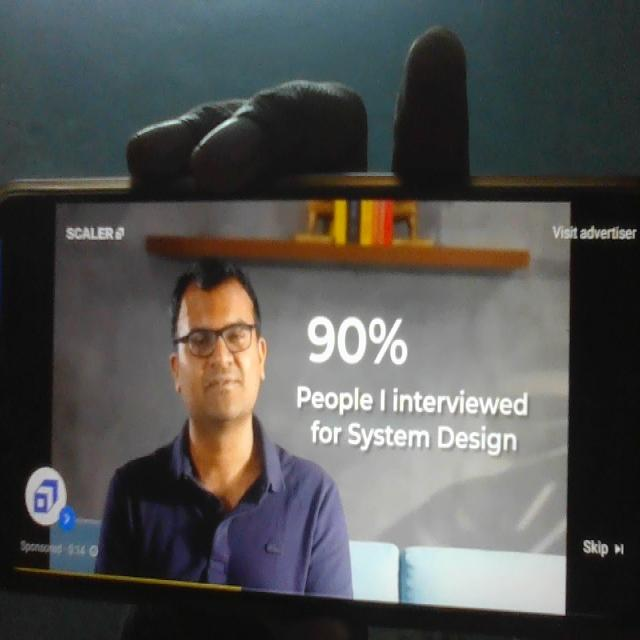fake: (169, 248, 274, 447)
